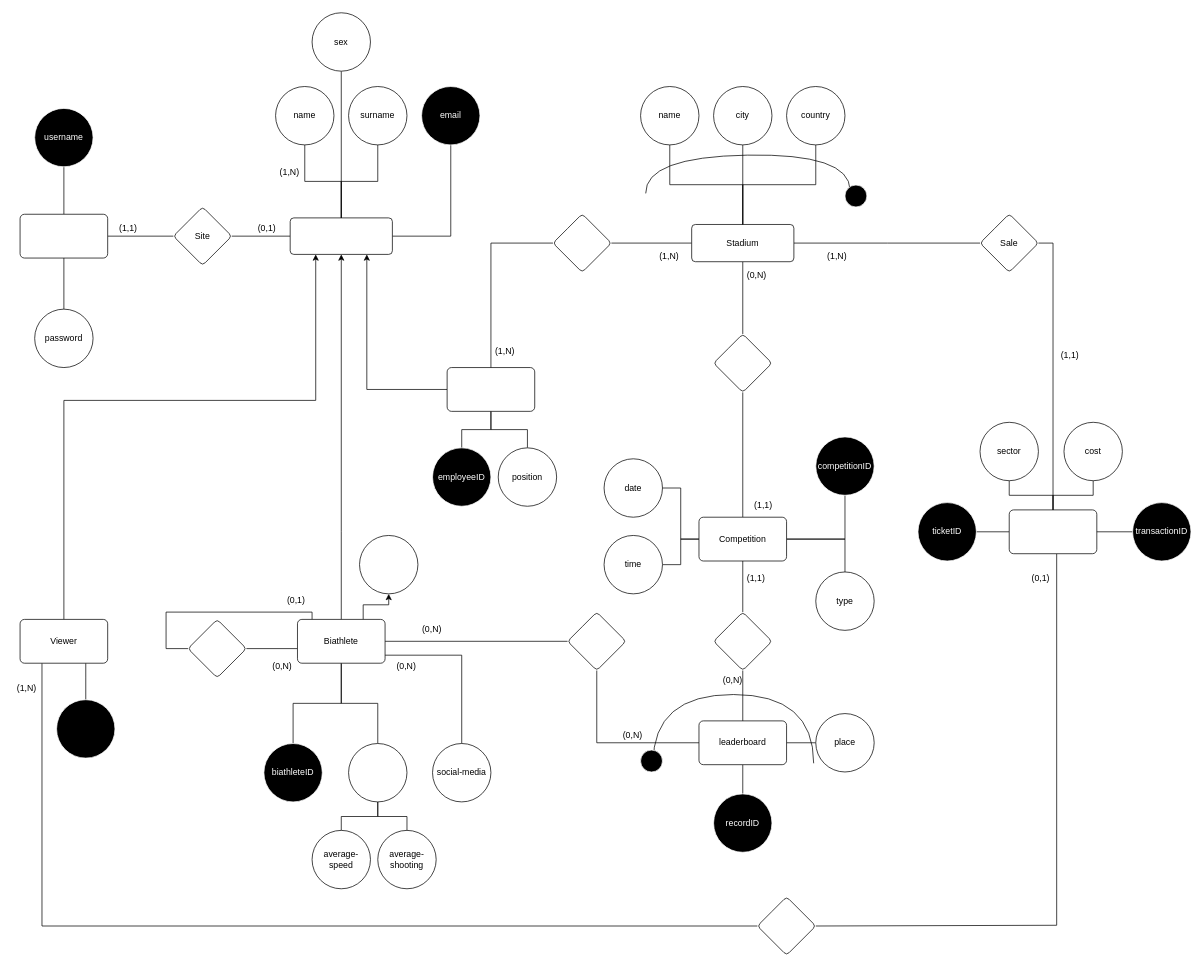
This 1204x968 diagram has some shape labels left out. Each missing label, with the centre of its shape:
Finish: (x=596, y=641)
Holder: (x=742, y=362)
Login: (x=63, y=236)
Person: (x=340, y=235)
points: (x=388, y=564)
Purchase: (x=786, y=925)
Results: (x=742, y=641)
Staff: (x=490, y=389)
stats: (x=377, y=772)
Teammate: (x=216, y=648)
Ticket: (x=1052, y=531)
viewerID: (x=85, y=728)
Work: (x=581, y=242)
